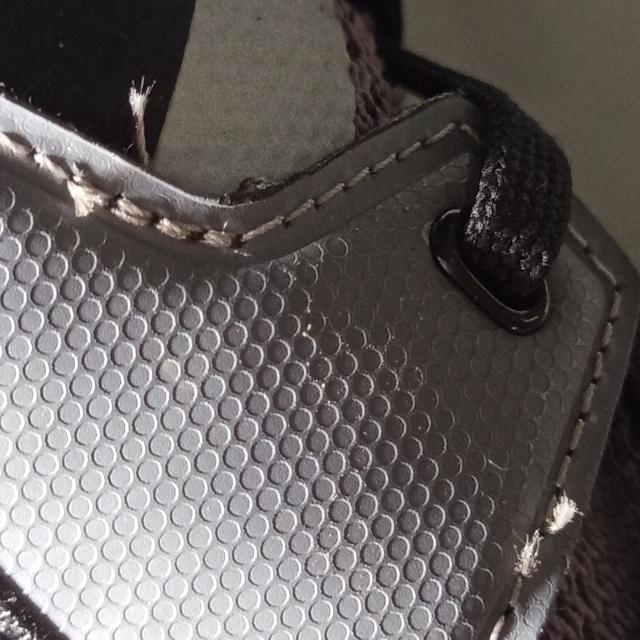broken-error: (504, 487, 580, 584)
